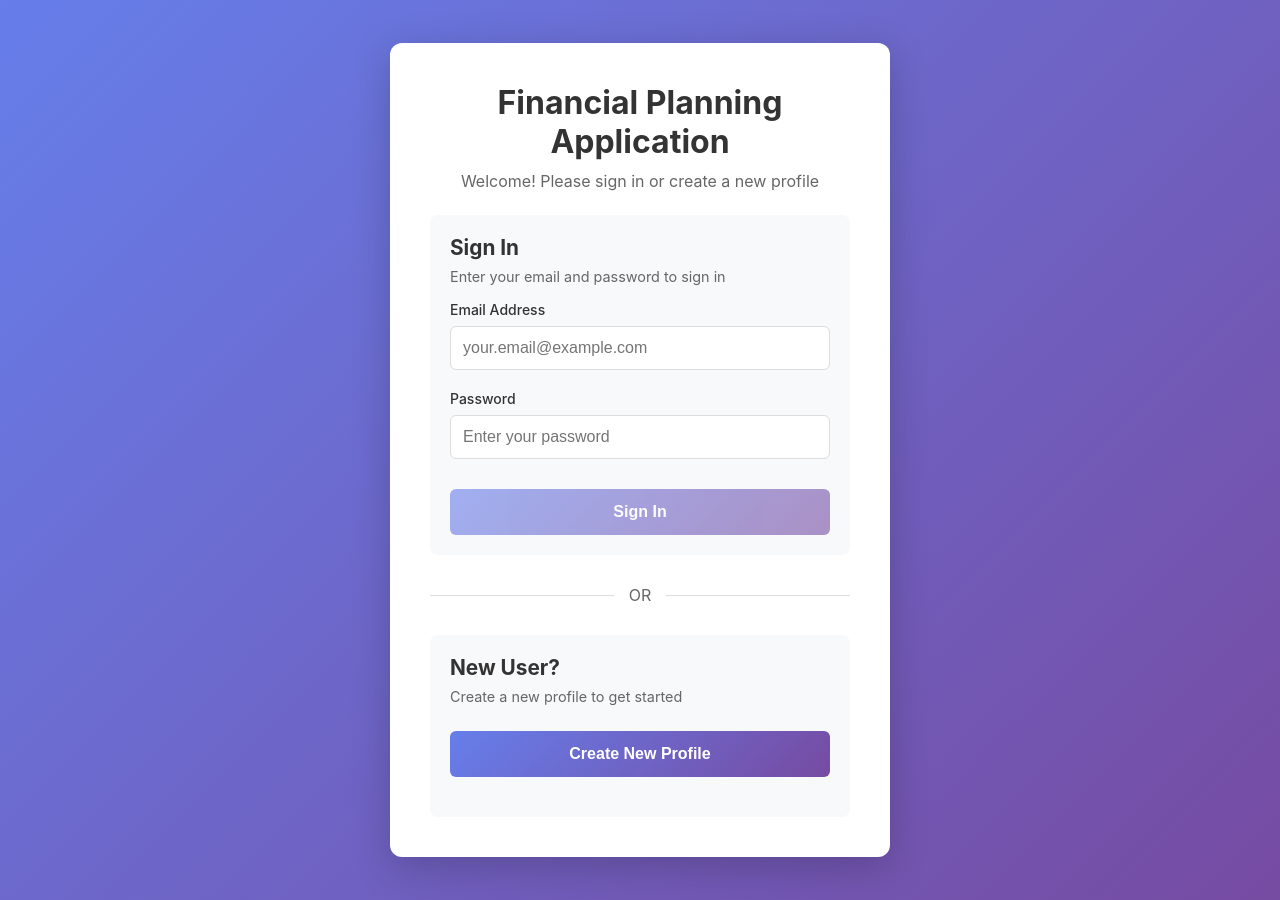
Test case: LoginScreen › clears error message when form is resubmitted
The image size is (1280, 900).
# First submission - fails
Type "test@example.com" into the field labelled "Email Address". click: point(640, 348)
box: [450,326,830,370]
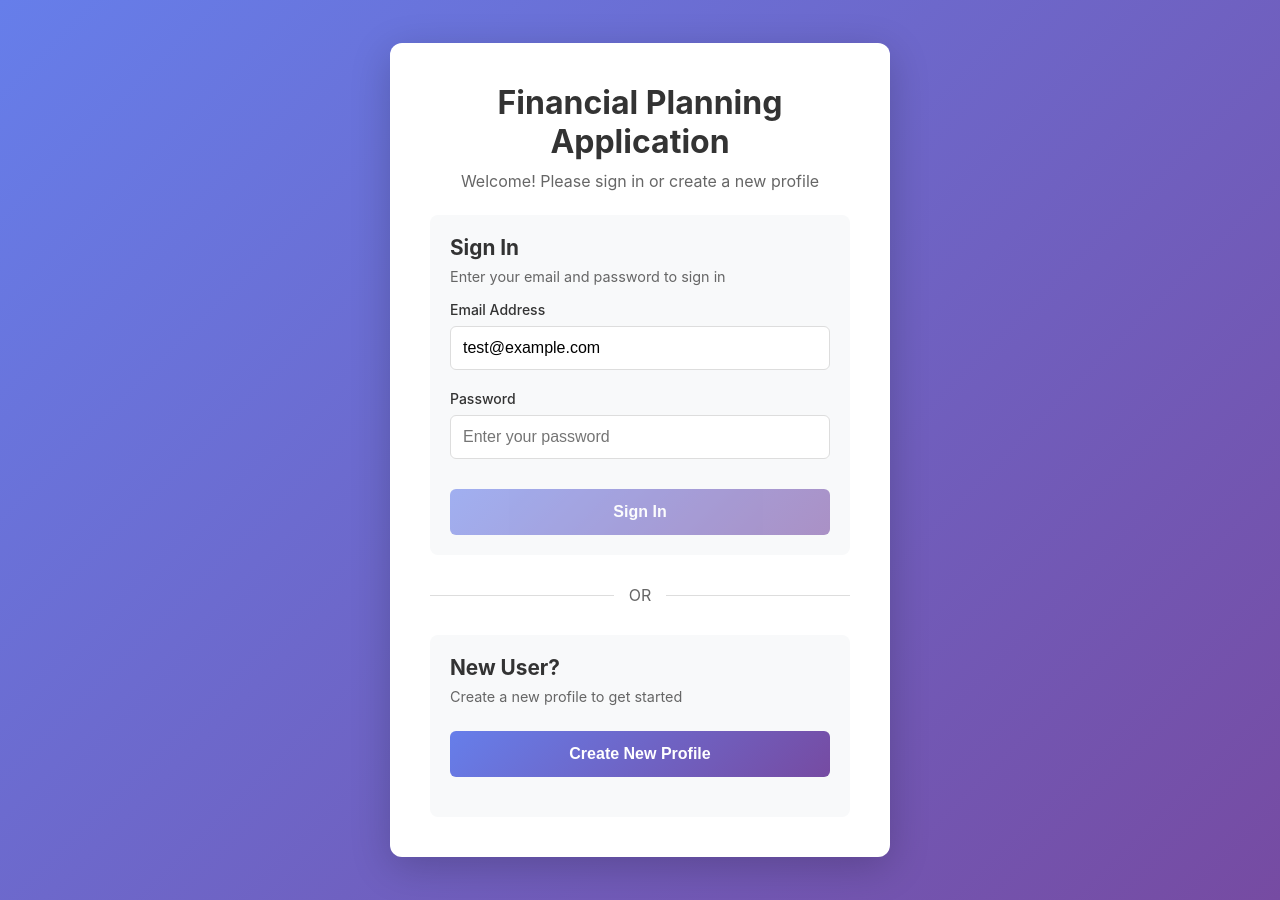
Type "wrongpassword" into the password field labelled "Password". click: point(640, 437)
box: [450,415,830,459]
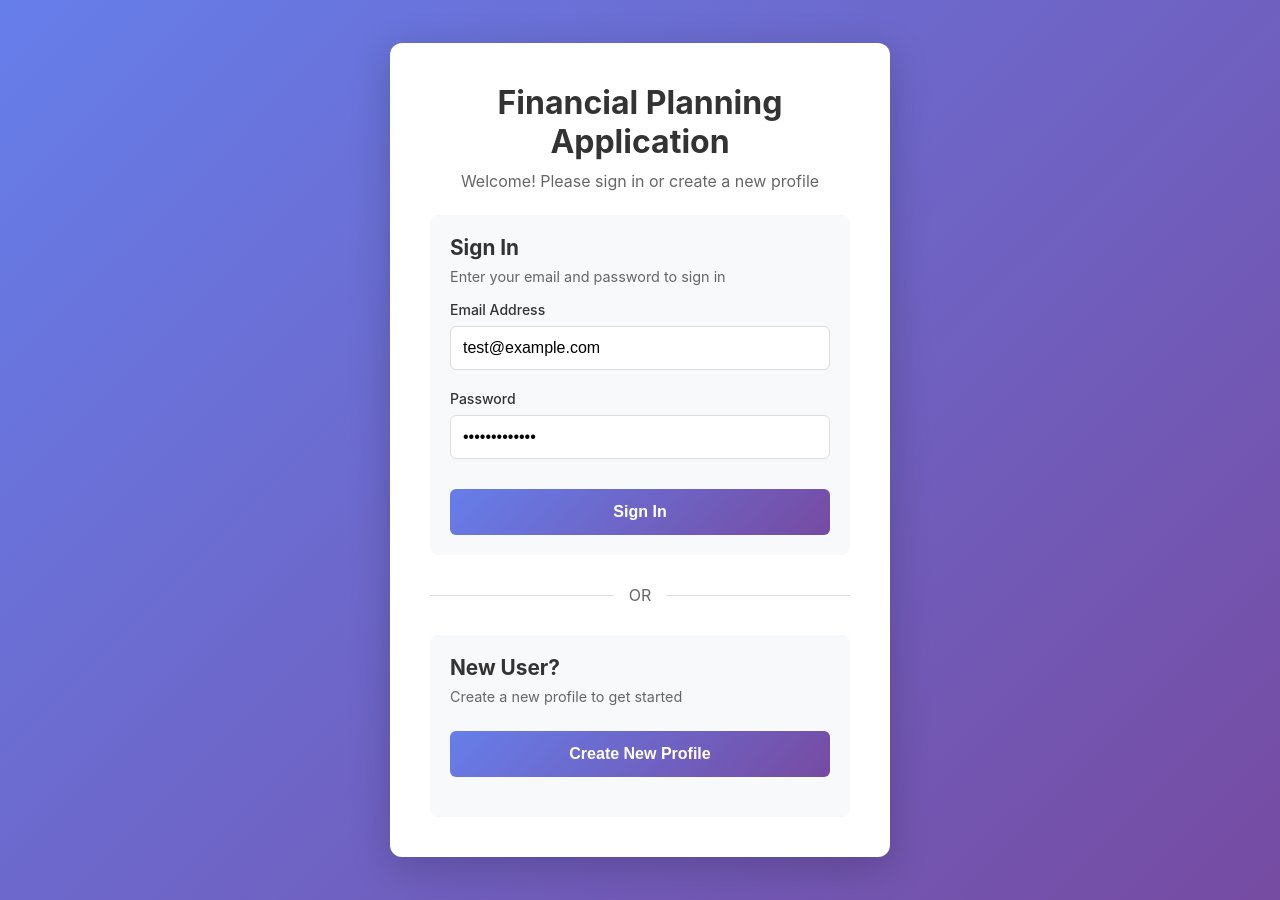
Click the button "Sign In". click: point(640, 512)
box: [450,489,830,535]
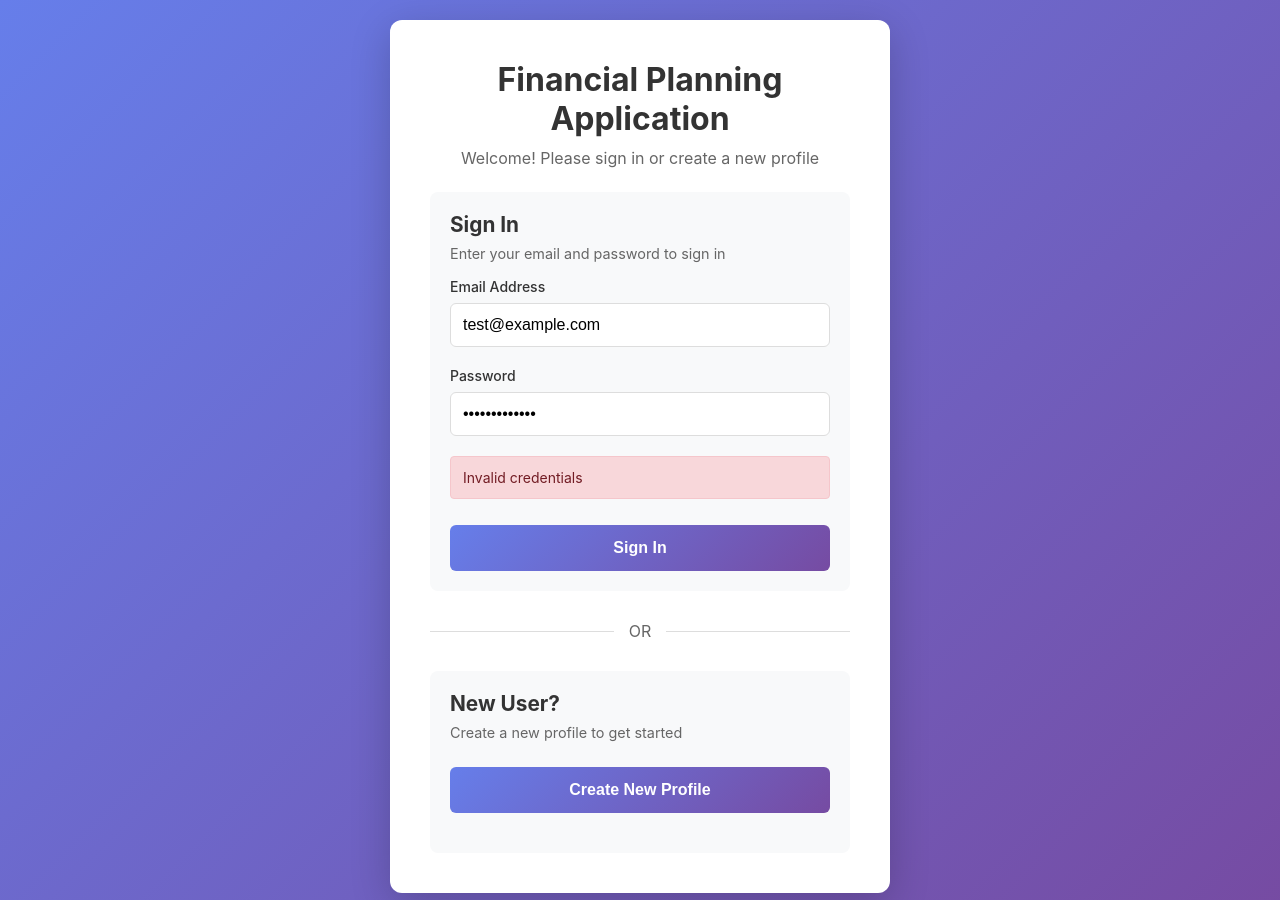
Expected: the text "Invalid credentials" is shown, [450,456,830,499]
# Second submission - succeeds
Type "correctpassword" into the password field labelled "Password". click: point(640, 414)
box: [450,392,830,436]
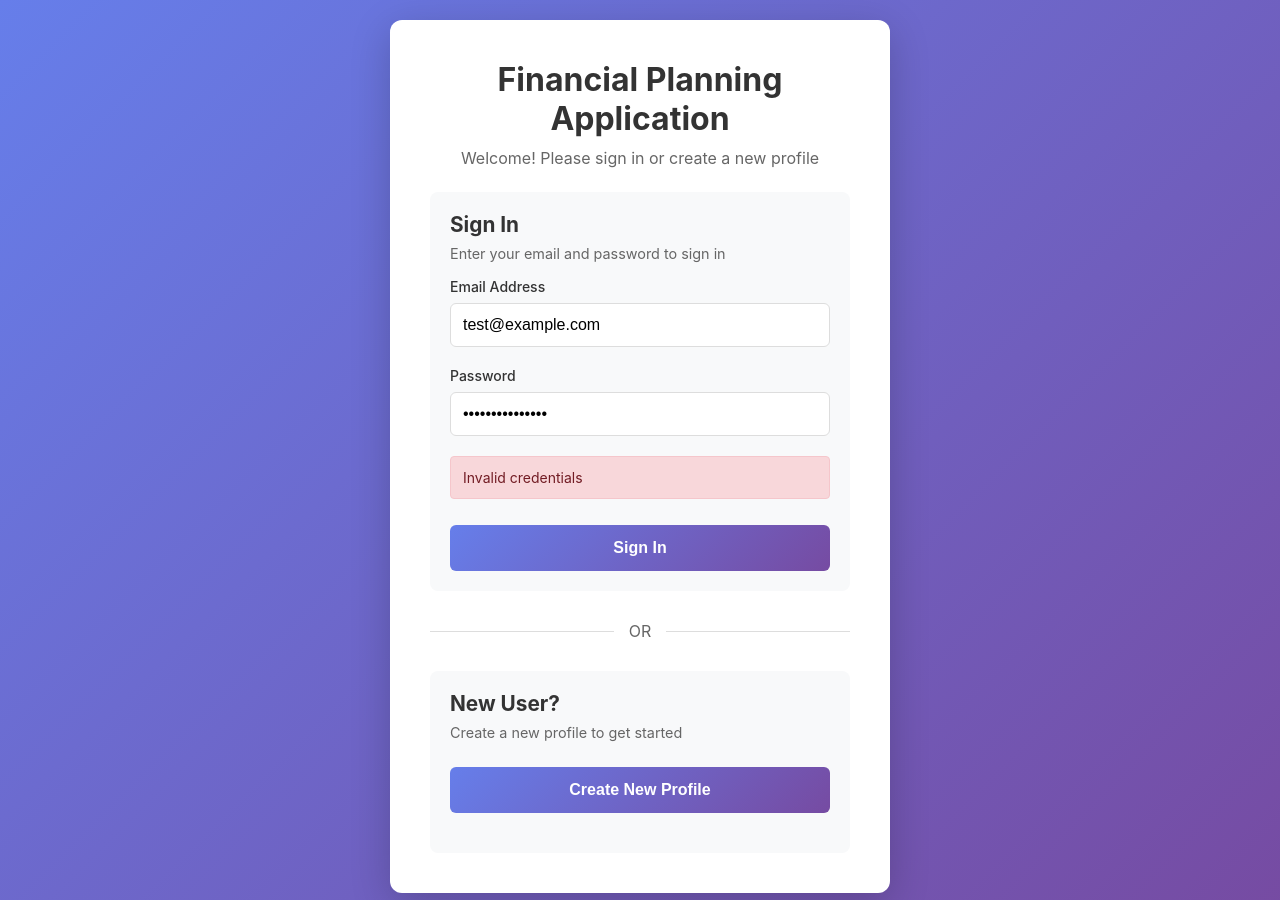
Click the button "Sign In". click: point(640, 548)
box: [450,525,830,571]
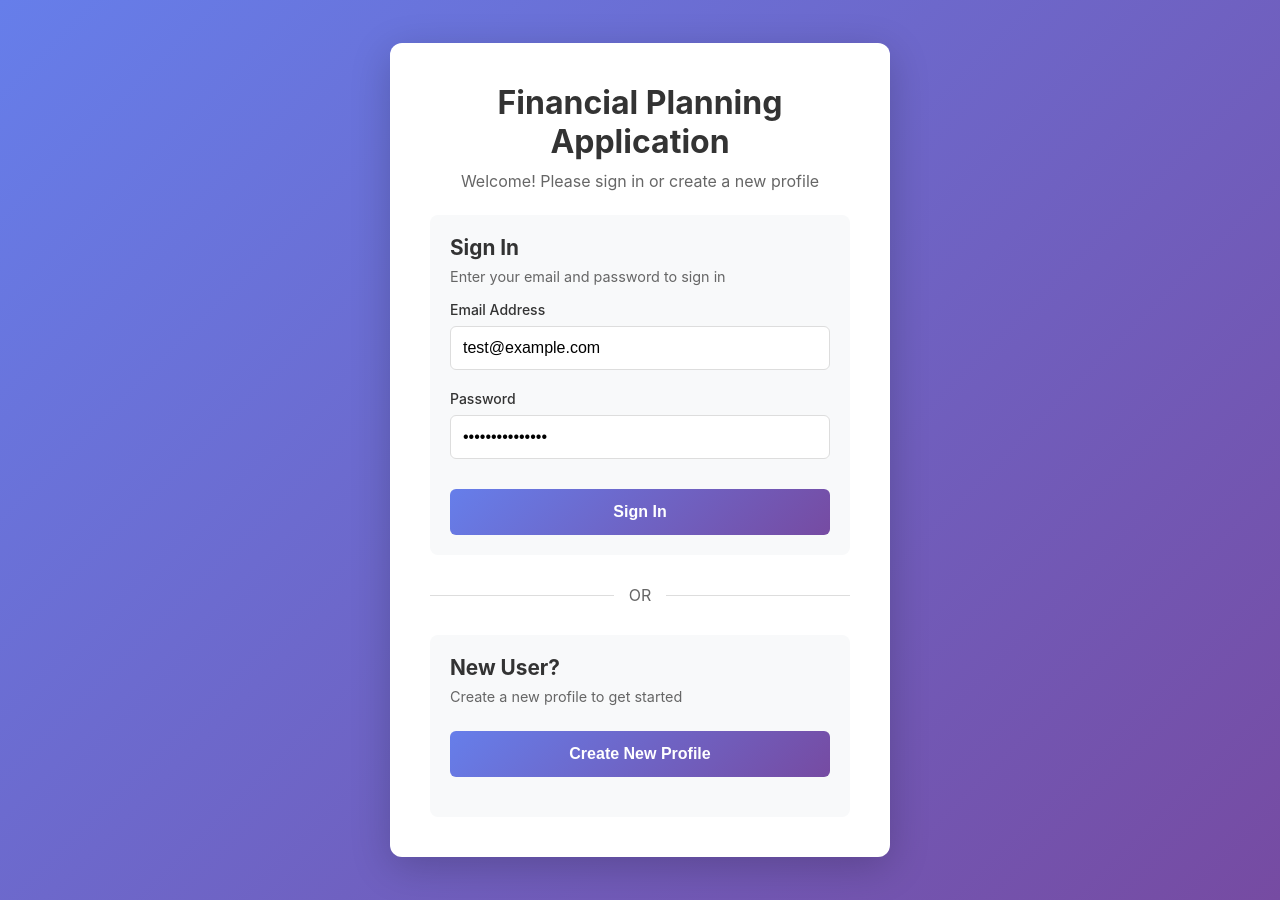
Expected: the text "Invalid credentials" is gone
